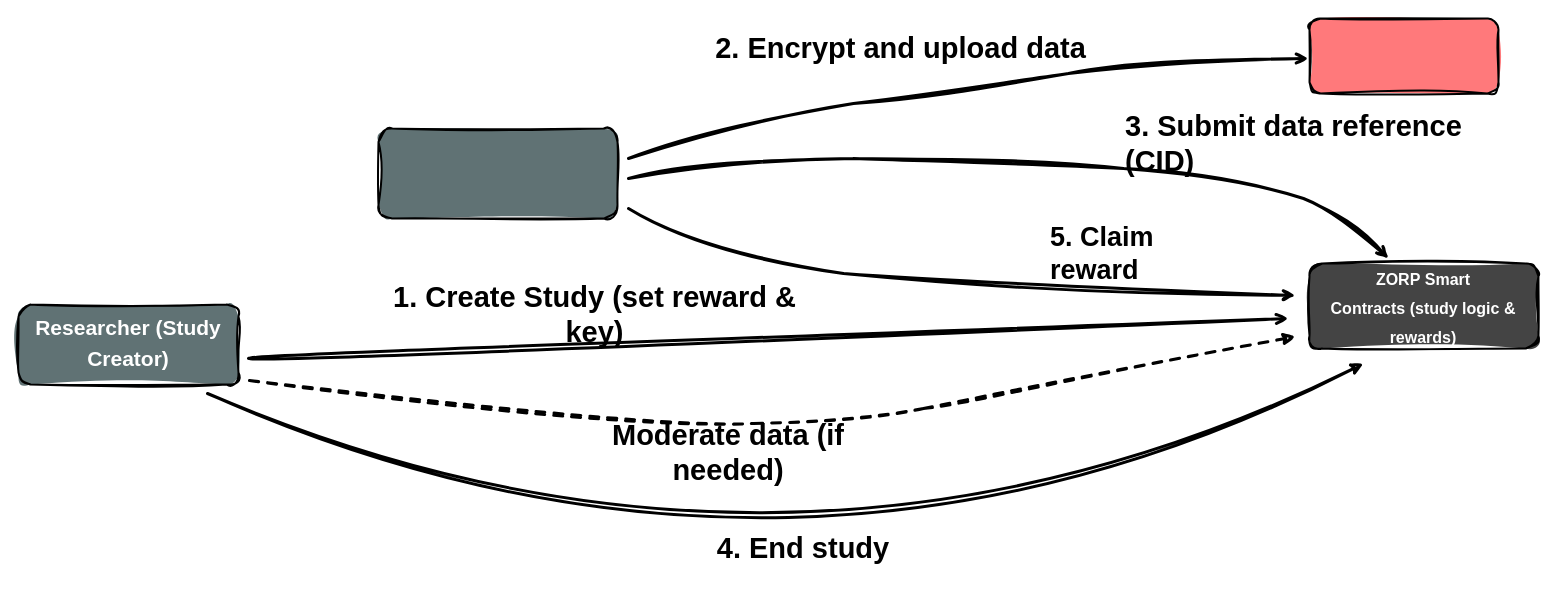
Some shapes in this 1556 by 595 pixel diagram are drawn without their labels. The centre of each missing label's shape, as x and y in pixels:
"IPFS (Encrypted Data Storage)" belongs at point (1403, 55).
"Study participant" belongs at point (497, 173).
